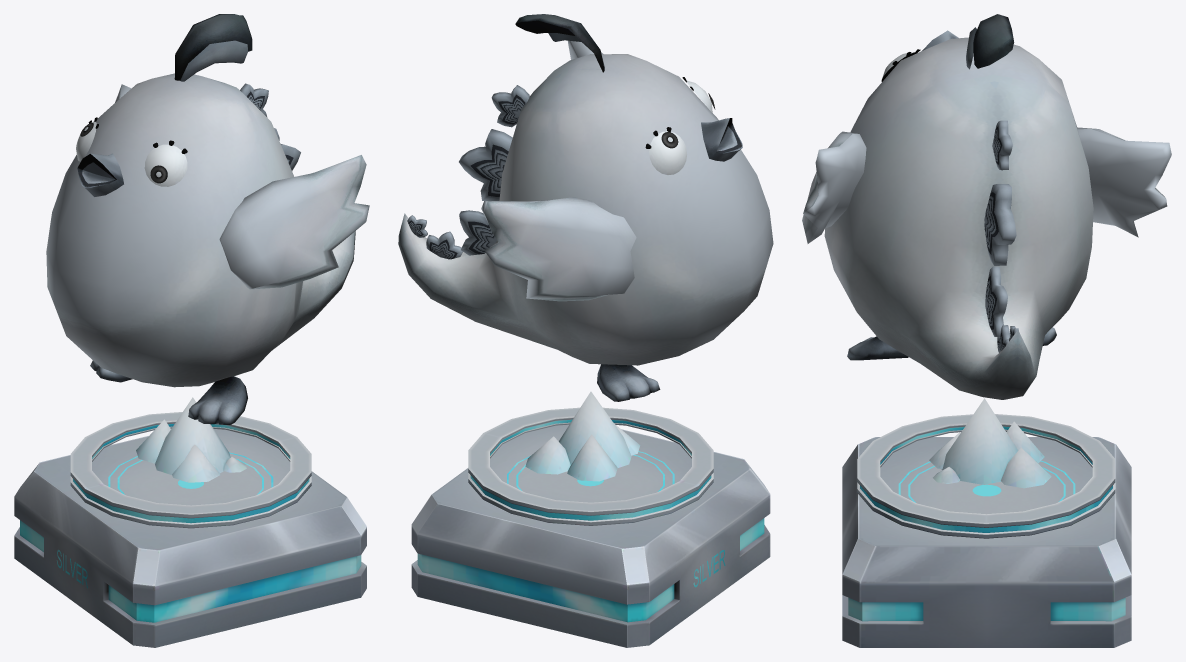
The model's file is my_trophy_perorozilla_outdoor_silver.glb.
3 views of the same model, side by side, from view 1: azimuth 30°, elevation 25°; view 2: azimuth 150°, elevation 25°; view 3: azimuth 270°, elevation 25° (orthographic). The views are drawn at different scales.
Parts seen in each view (by area): view 1: my_trophy_perorozilla_outdoor_silver; view 2: my_trophy_perorozilla_outdoor_silver; view 3: my_trophy_perorozilla_outdoor_silver.
Part boxes in pixels (x1,y1,x2,y2): my_trophy_perorozilla_outdoor_silver: (14,14,369,647); my_trophy_perorozilla_outdoor_silver: (398,14,773,647); my_trophy_perorozilla_outdoor_silver: (802,14,1171,647).
Size of the model in its own units: 0.00537 by 0.00866 by 0.00499.
Materials: 3 (3 with a texture image).
